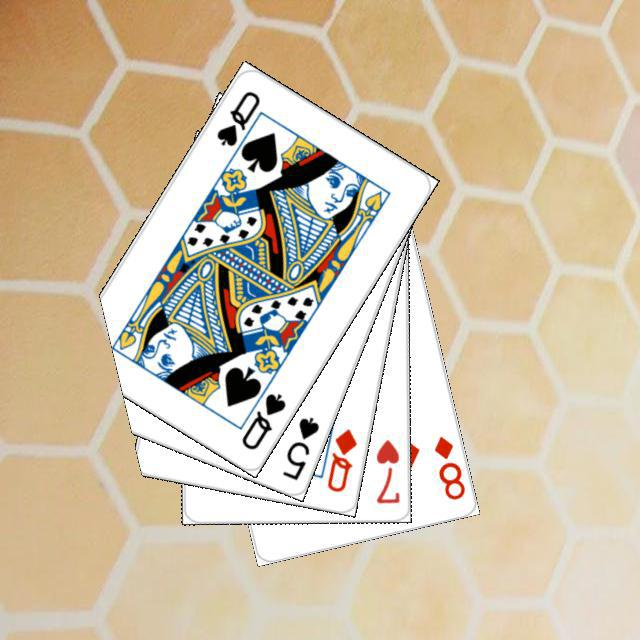5s: (277, 412, 321, 482)
7h: (371, 435, 401, 505)
8d: (429, 431, 467, 502)
Qd: (322, 424, 359, 494)
Qs: (236, 388, 288, 452), (211, 86, 262, 148)
